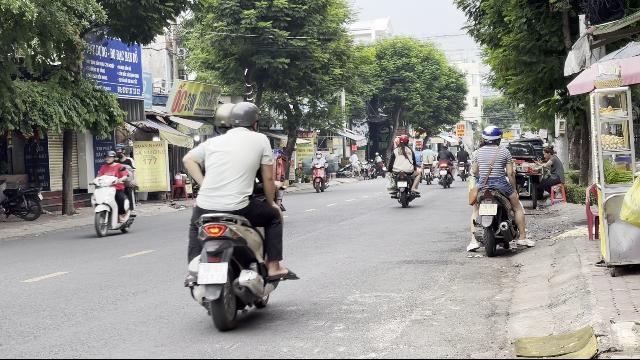helmet: (228, 100, 260, 132), (212, 102, 234, 134), (481, 125, 502, 145), (114, 143, 126, 157), (104, 149, 116, 163)
licenseplate: (198, 262, 228, 284), (479, 205, 497, 216)
motorcyclist: (178, 98, 296, 332), (464, 124, 528, 256), (89, 144, 138, 238)
